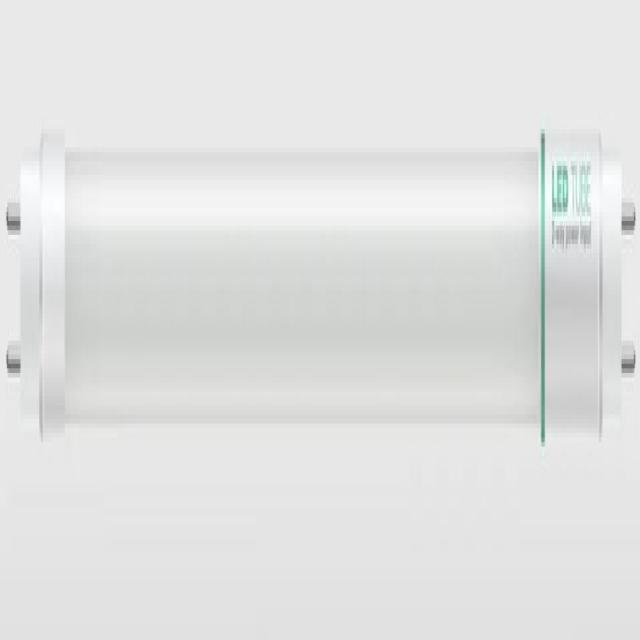electronic: (3, 134, 639, 419)
